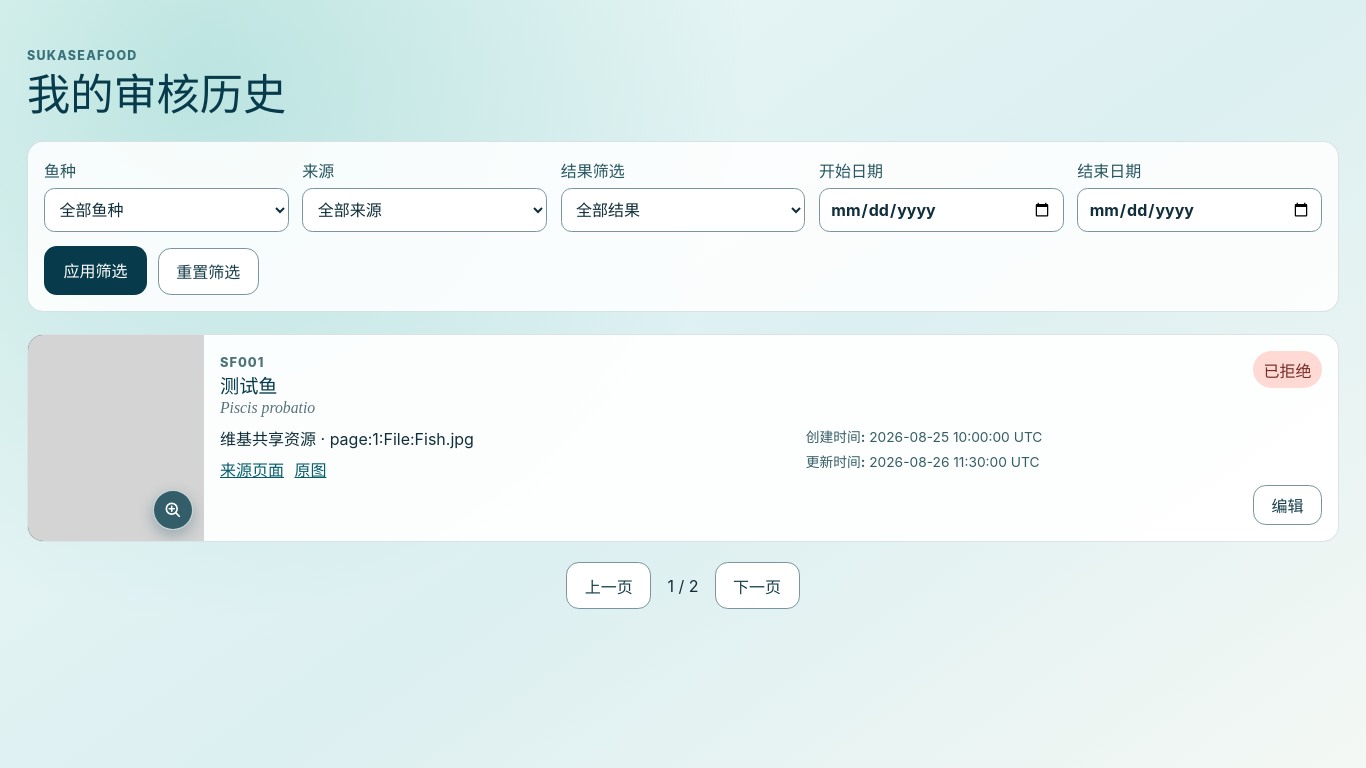
Scenario: HistoryPage private filters and paging › ignores out-of-order filter results and recovers an empty page after edits
Expected: the text "维基共享资源 · page:1:File:Fish.jpg" is shown, [220,429,474,449]
Select "已保留" in the dropdown labelled "结果". click: (683, 210)
box: [561,188,805,232]
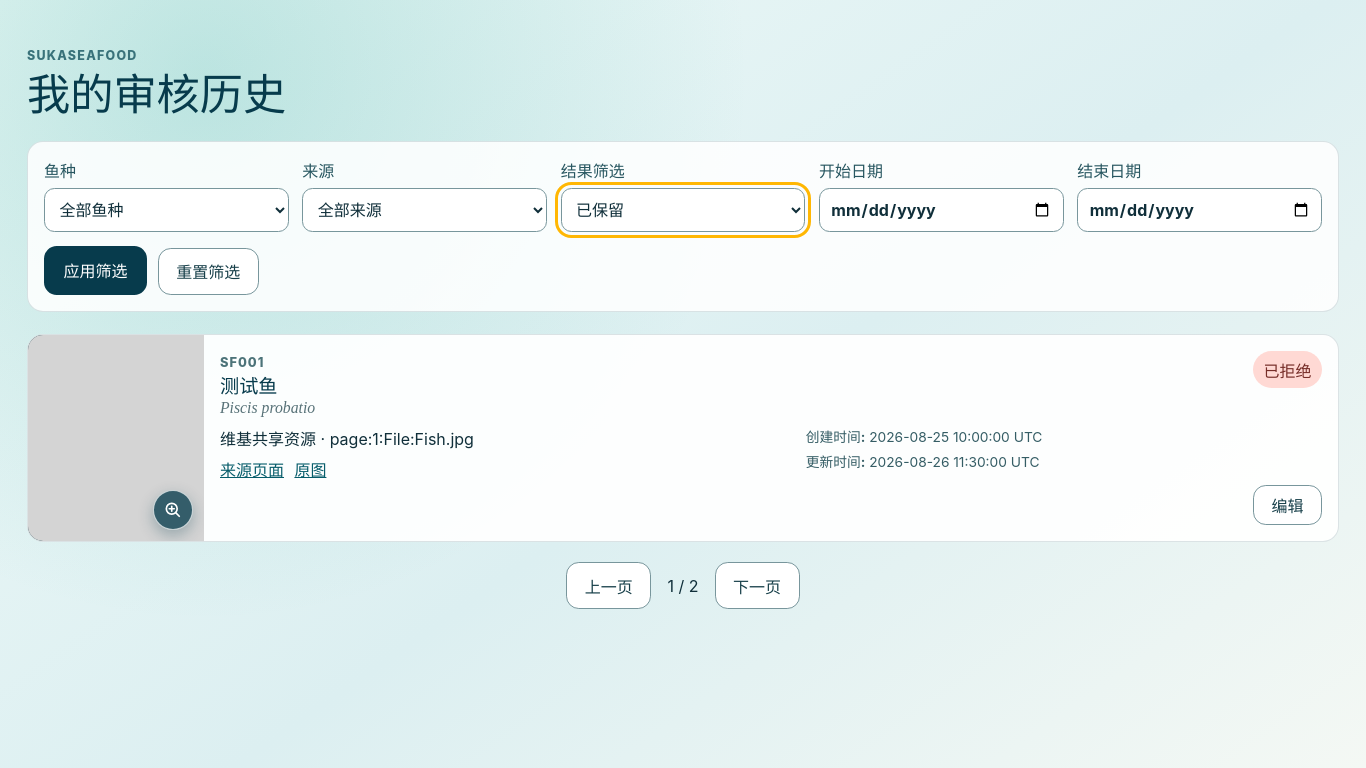
Click the button "应用筛选". click: (96, 270)
box: [44,246,147,295]
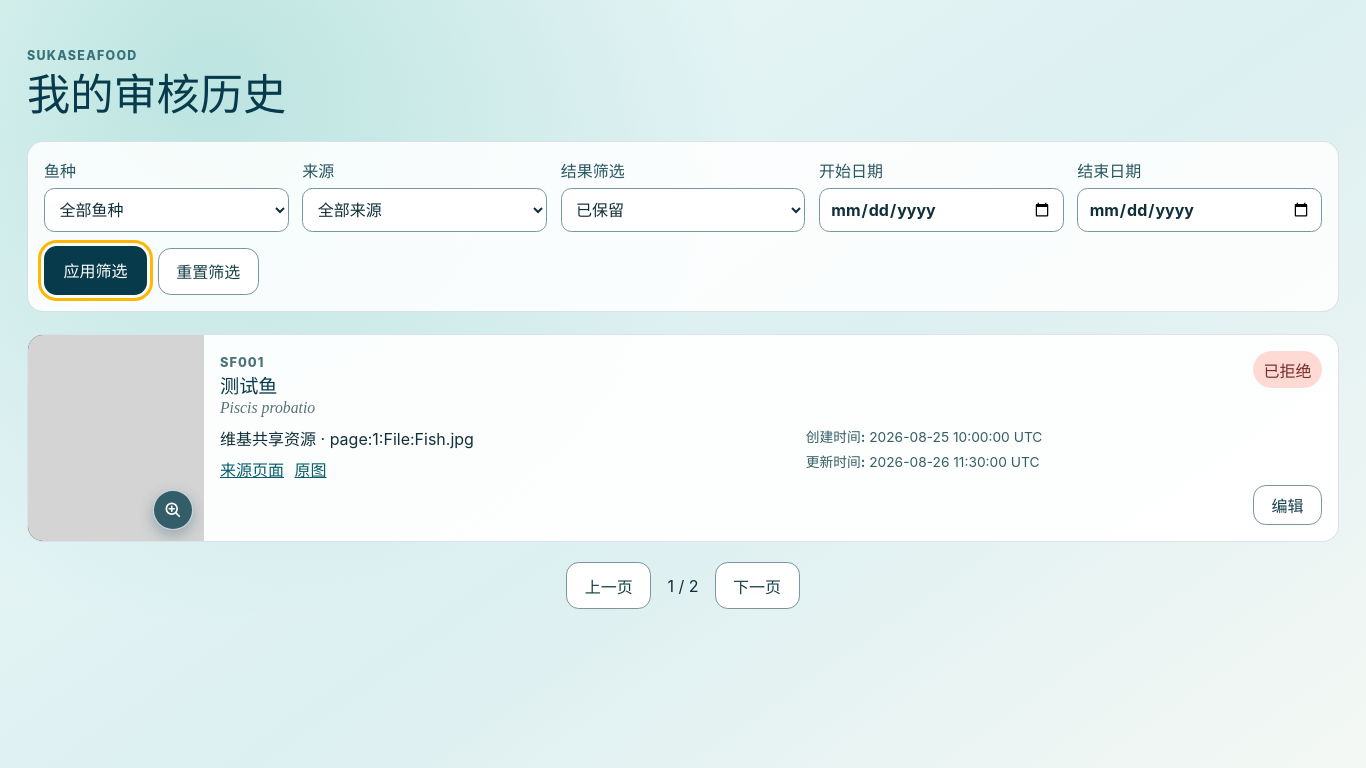
Select "不确定" in the dropdown labelled "结果". click: (683, 210)
box: [561,188,805,232]
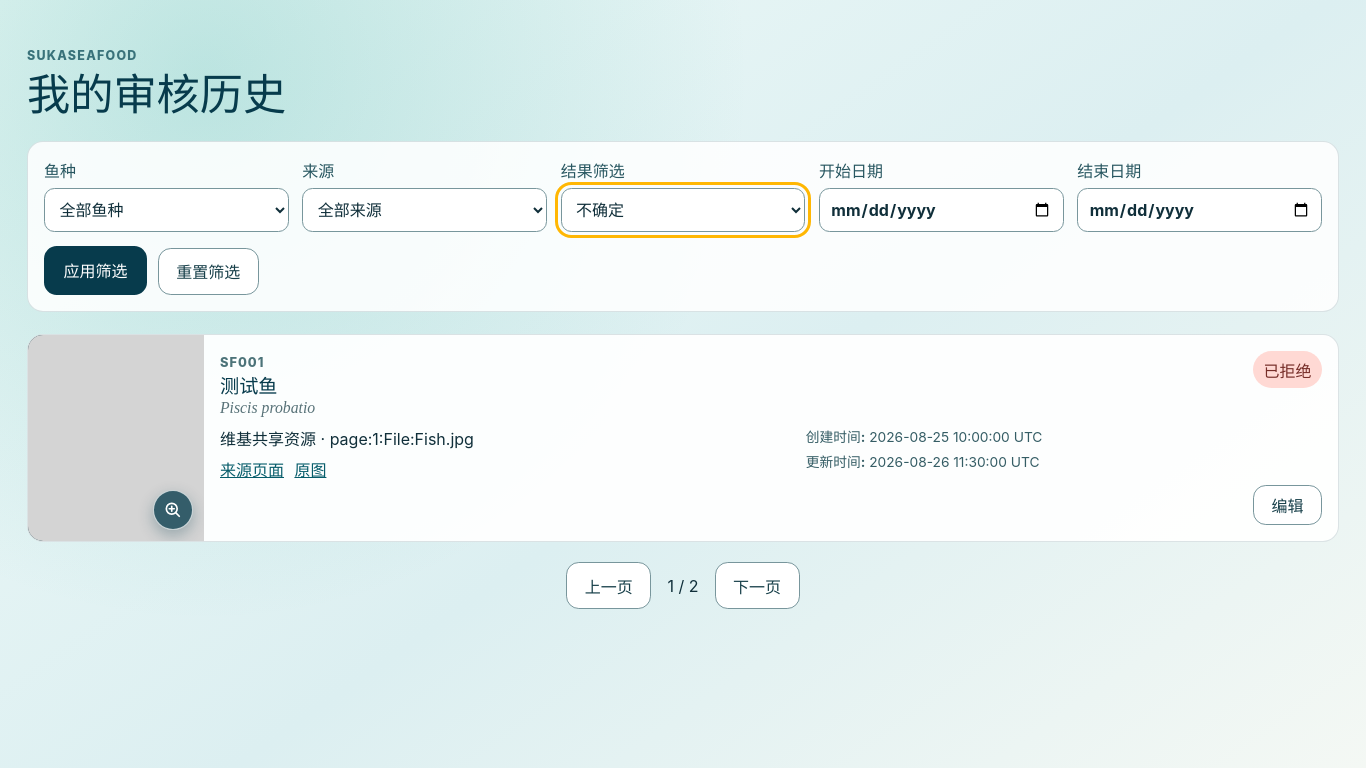
Click the button "应用筛选". click: (96, 270)
box: [44,246,147,295]
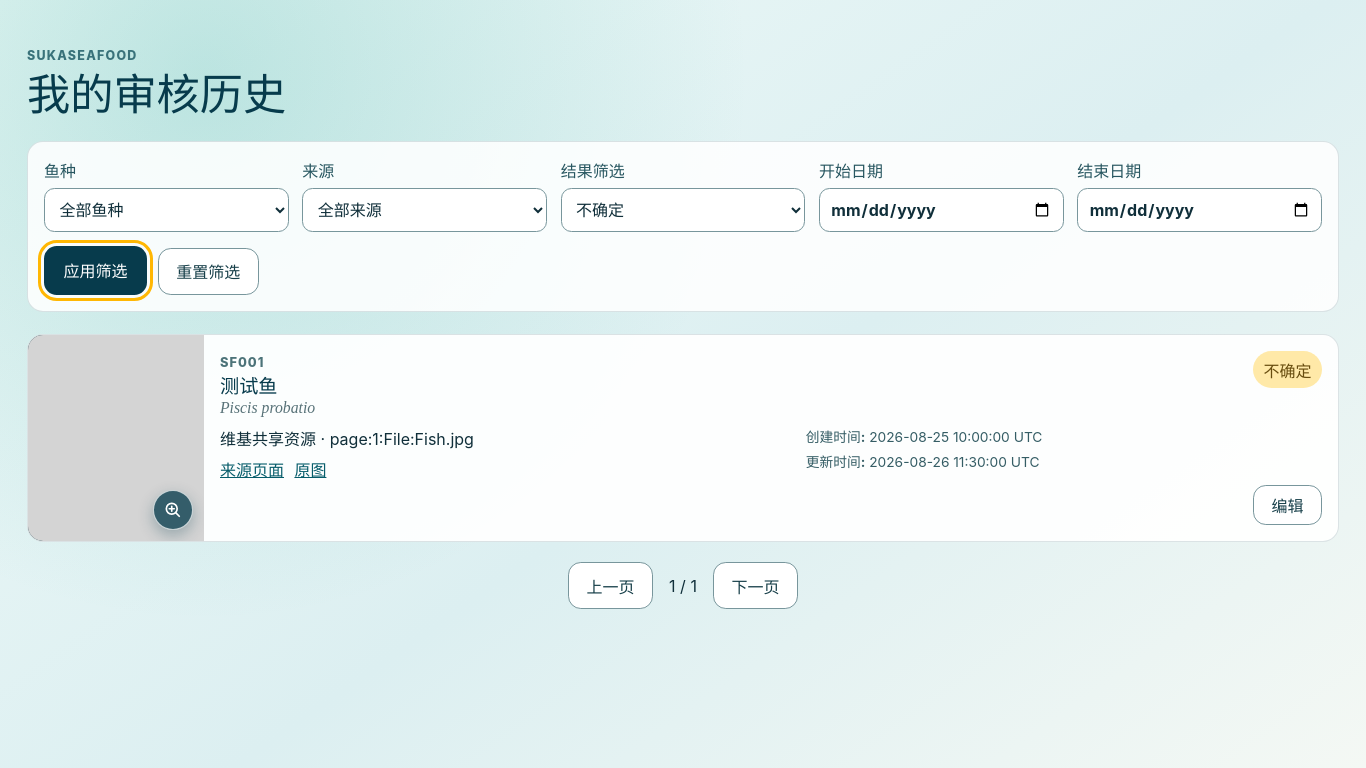
Expected: the text "已保留" is not shown
Expected: the text "不确定" is shown, [1253,351,1322,388]
